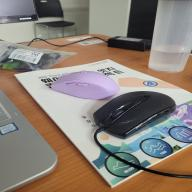mouse: (95, 90, 175, 136), (51, 70, 119, 100)
